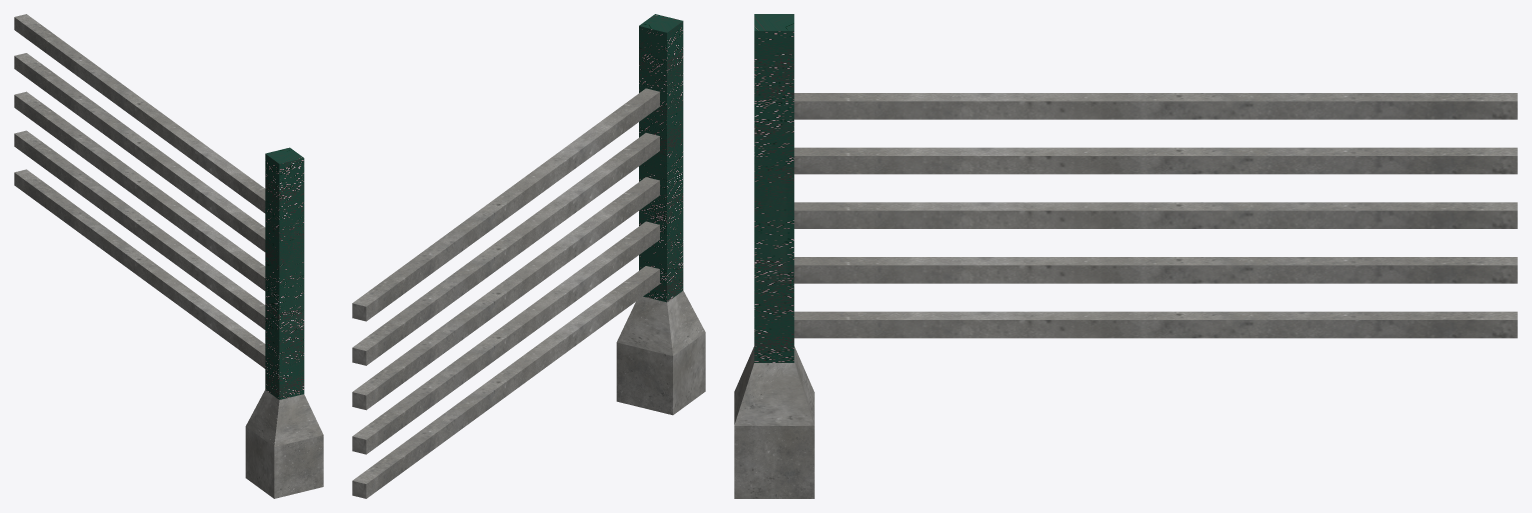
Rendered from Fence.fbx.
3 views of the same model, side by side, from view 1: azimuth 30°, elevation 25°; view 2: azimuth 150°, elevation 25°; view 3: azimuth 270°, elevation 25° (orthographic). The views are drawn at different scales.
Parts seen in each view (by area): view 1: Fence; view 2: Fence; view 3: Fence.
Part boxes in pixels (x1,y1,x2,y2): Fence: (14, 14, 323, 498); Fence: (352, 14, 705, 498); Fence: (734, 14, 1517, 498).
Bounding box in the file's own units: 40 × 252 × 390.
